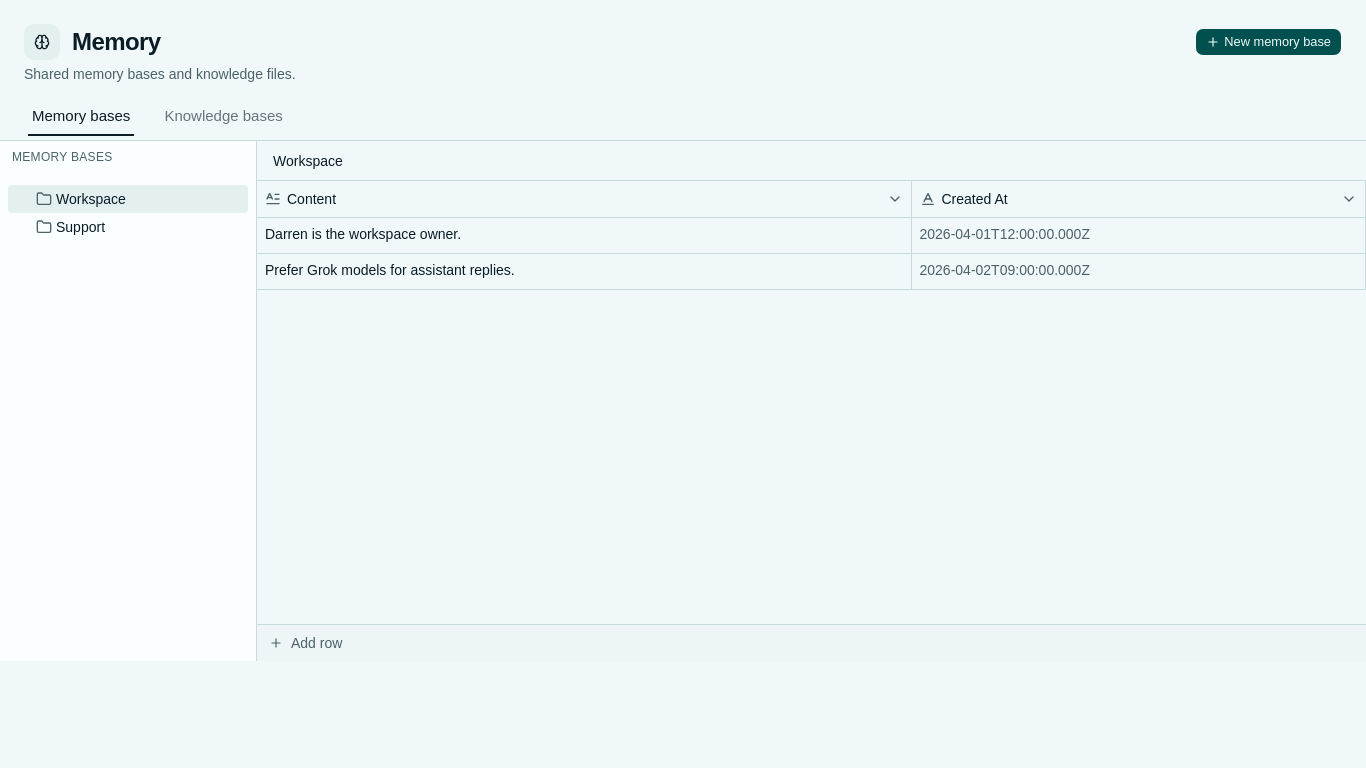
Test: MemoryPage › shows a useful empty state for a memory base with no entries
This screenshot has width=1366, height=768.
Click the button "New memory base": (1269, 42) 1195,28 -> 1342,56
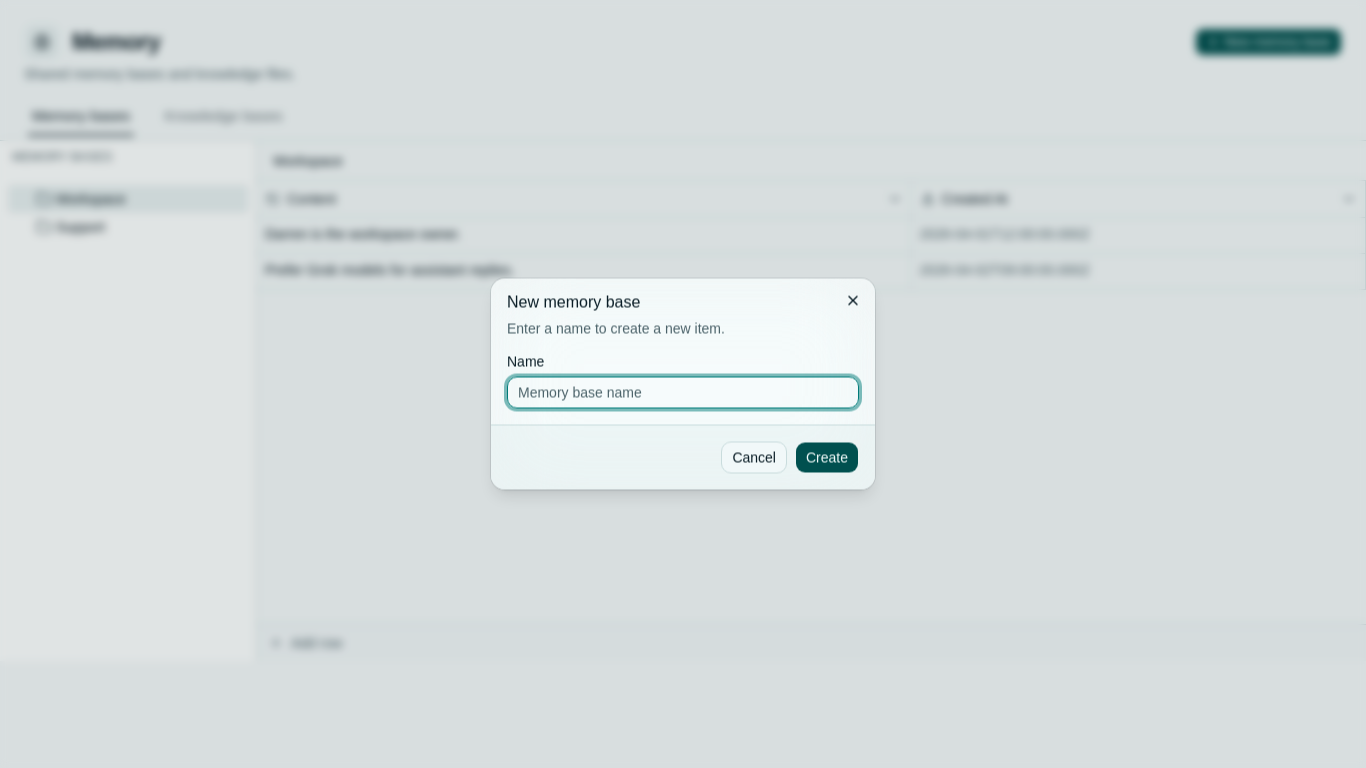
In the field labelled "Name": (683, 392) 507,376 -> 859,408, type "Empty base"
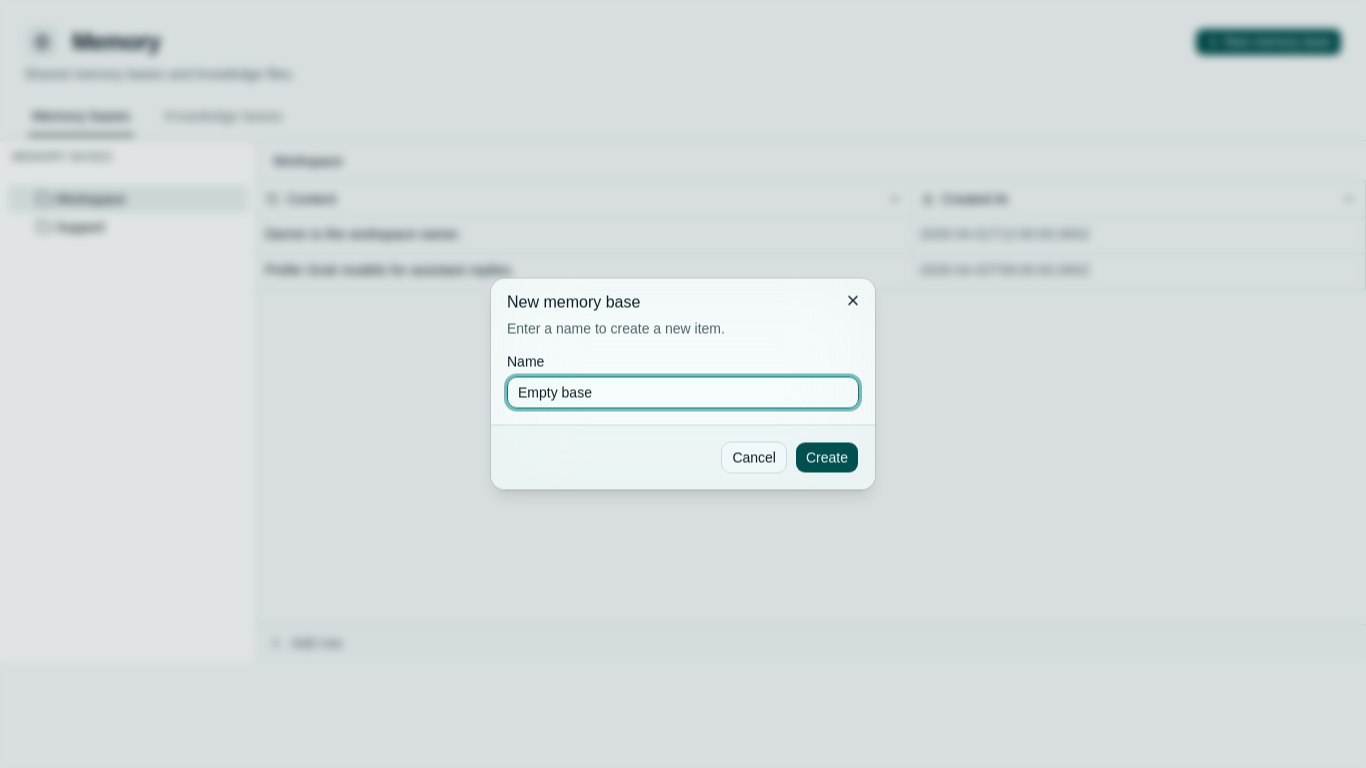
Click the button "Create": (827, 458) 795,442 -> 859,474
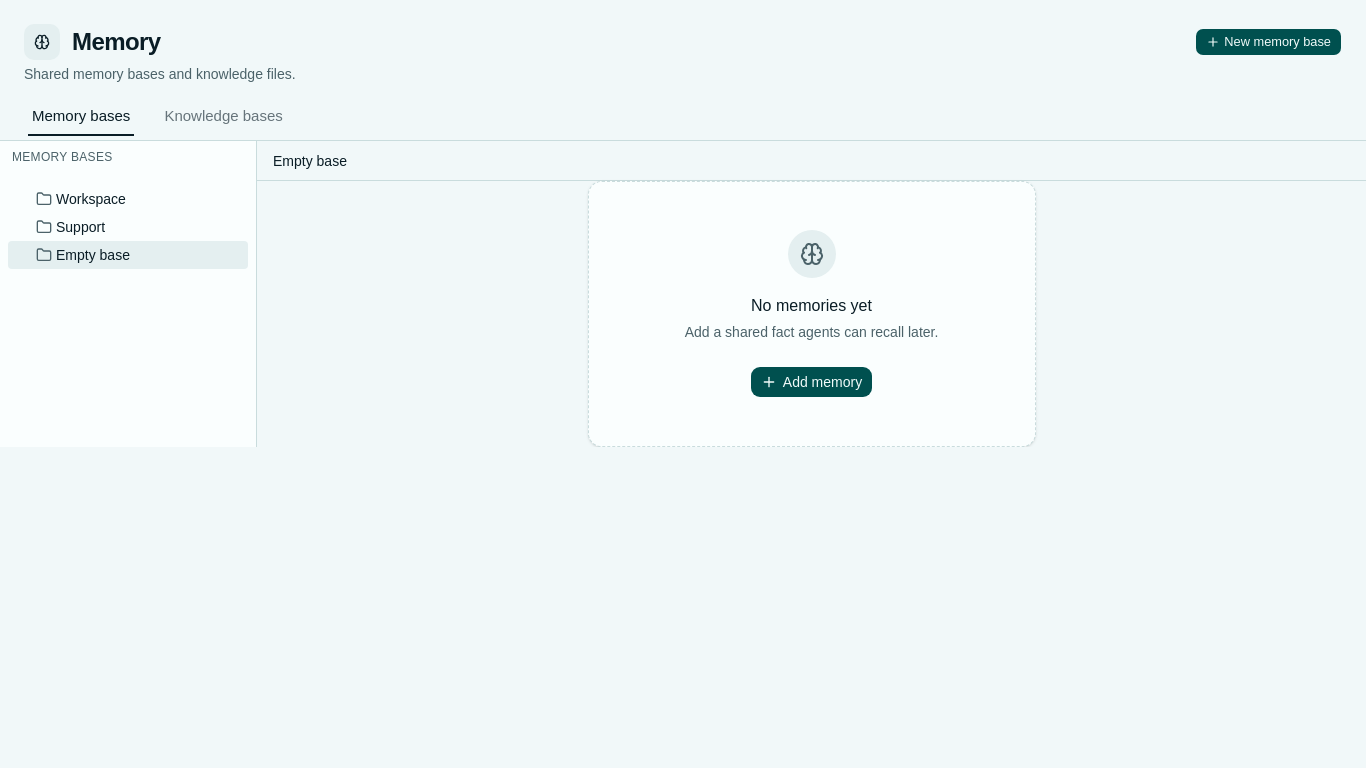
Now the heading "No memories yet" is shown, box 751,294 -> 872,318
Now the button "Add memory" is shown, box 750,366 -> 873,398
